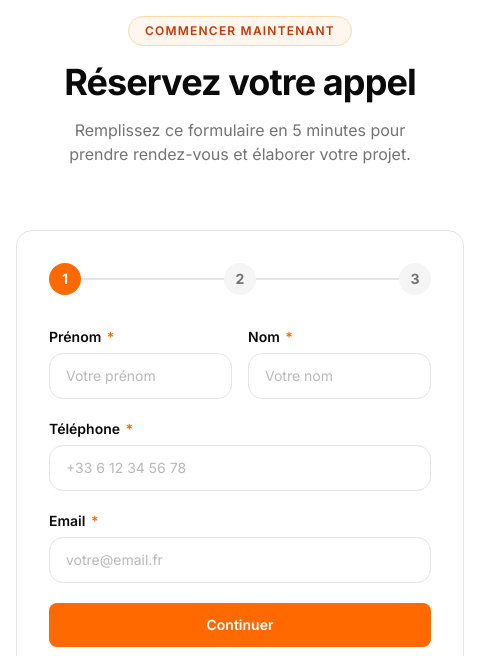
Test: AuditForm › revient à l'étape 1 avec le bouton Retour
This screenshot has width=481, height=656.
Step 1. Type "Andy" into the field with placeholder "Votre prénom" → (140, 376), box [49,353,232,399]
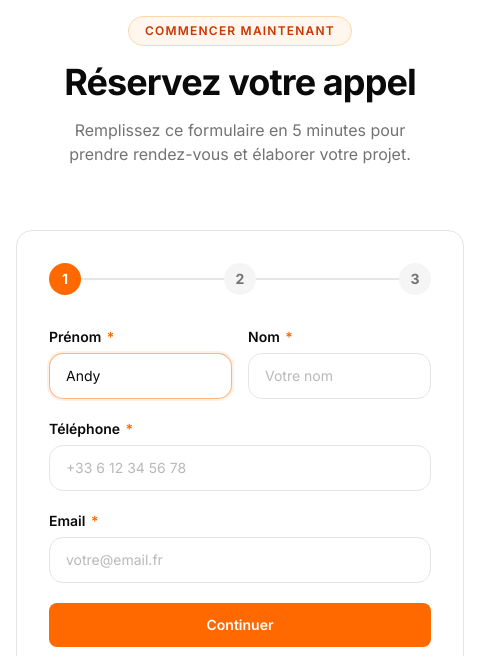
Step 2. Type "Ramaroson" into the field with placeholder "Votre nom" → (340, 376), box [248,353,431,399]
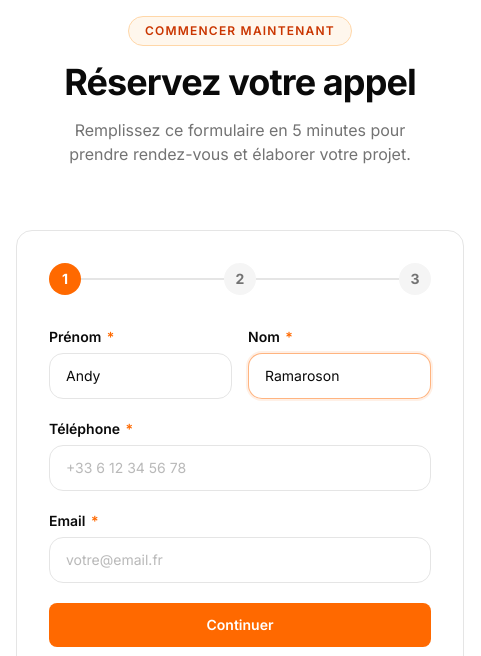
Step 3. Type "0612345678" into the field with placeholder "+33 6 12 34 56 78" → (240, 468), box [49,445,431,491]
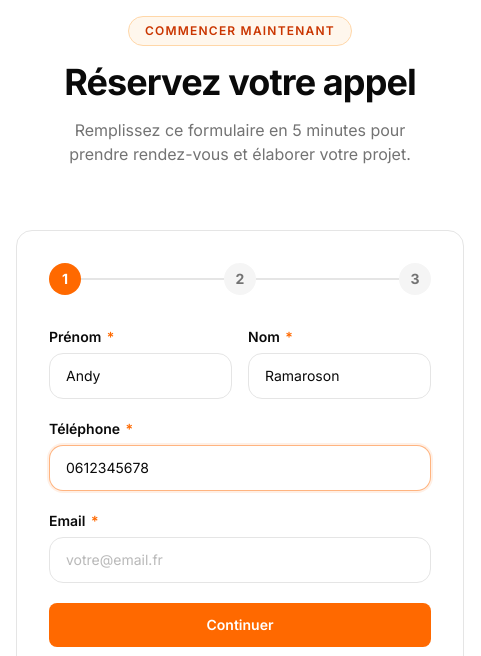
Step 4. Type "andy@lemurian.fr" into the field with placeholder "votre@email.fr" → (240, 560), box [49,537,431,583]
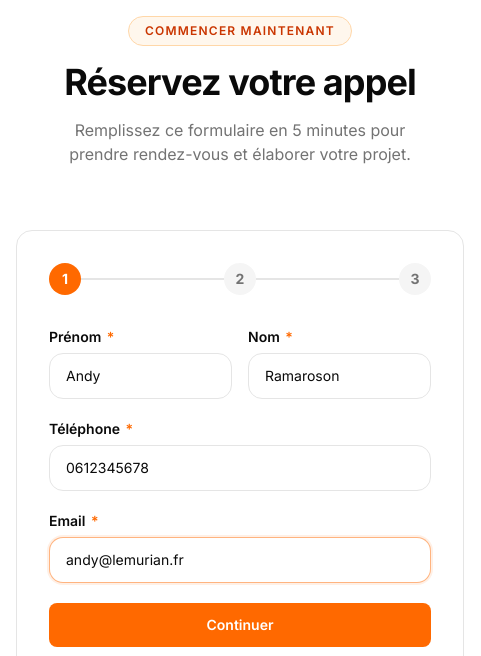
Step 5. Click the button with test id "next-btn" → (240, 625), box [49,603,431,647]
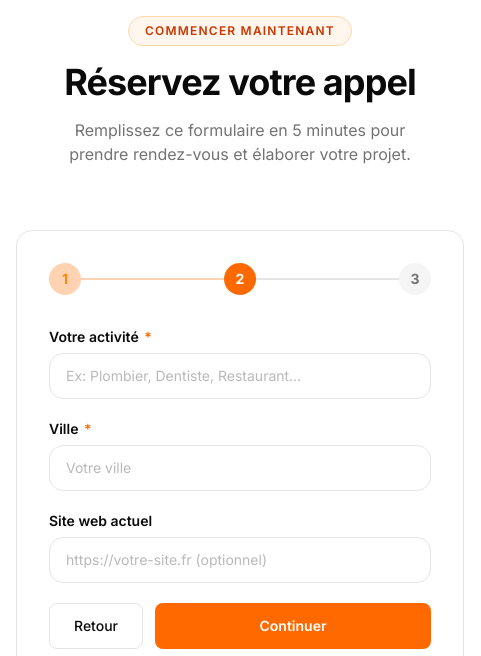
expect the element with test id "step-2" is shown: met, box [49,327,431,649]
Step 6. Click the button with test id "back-btn" → (96, 626), box [49,603,143,649]
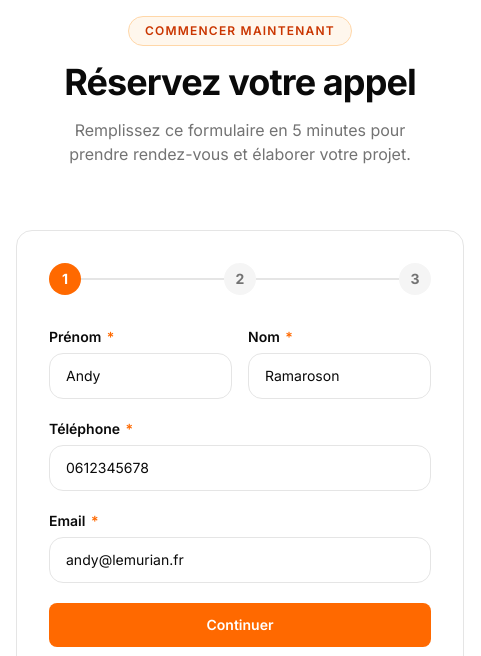
expect the element with test id "step-1" is shown: met, box [49,327,431,647]
